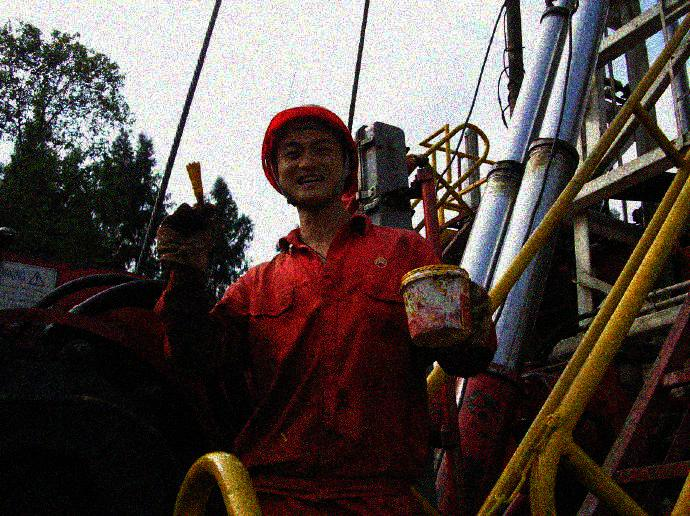helmet: (258, 101, 361, 207)
